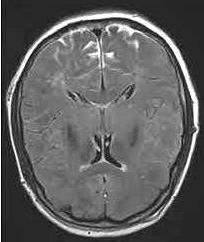Normal_Brain: (3, 1, 204, 242)
